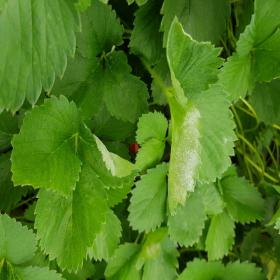Powdery Mildew Leaf: (165, 15, 227, 108), (188, 83, 240, 185), (165, 87, 203, 216), (80, 120, 142, 190)
